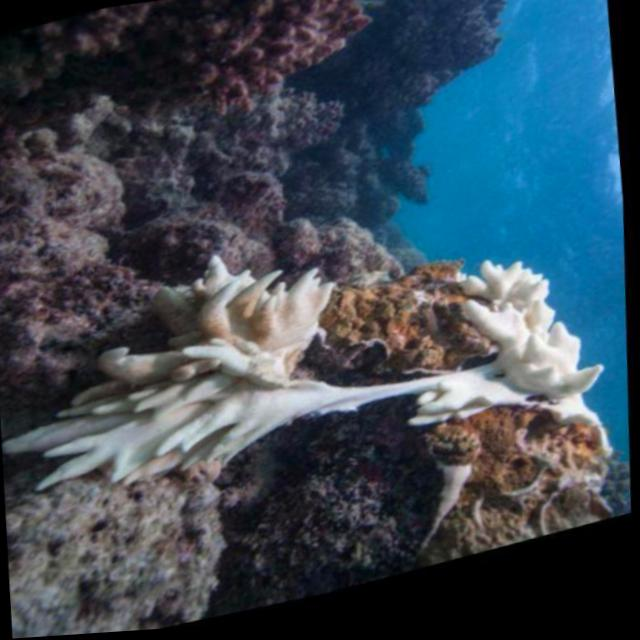Dead Coral: (0, 73, 351, 336), (353, 0, 569, 225), (228, 433, 443, 620)
